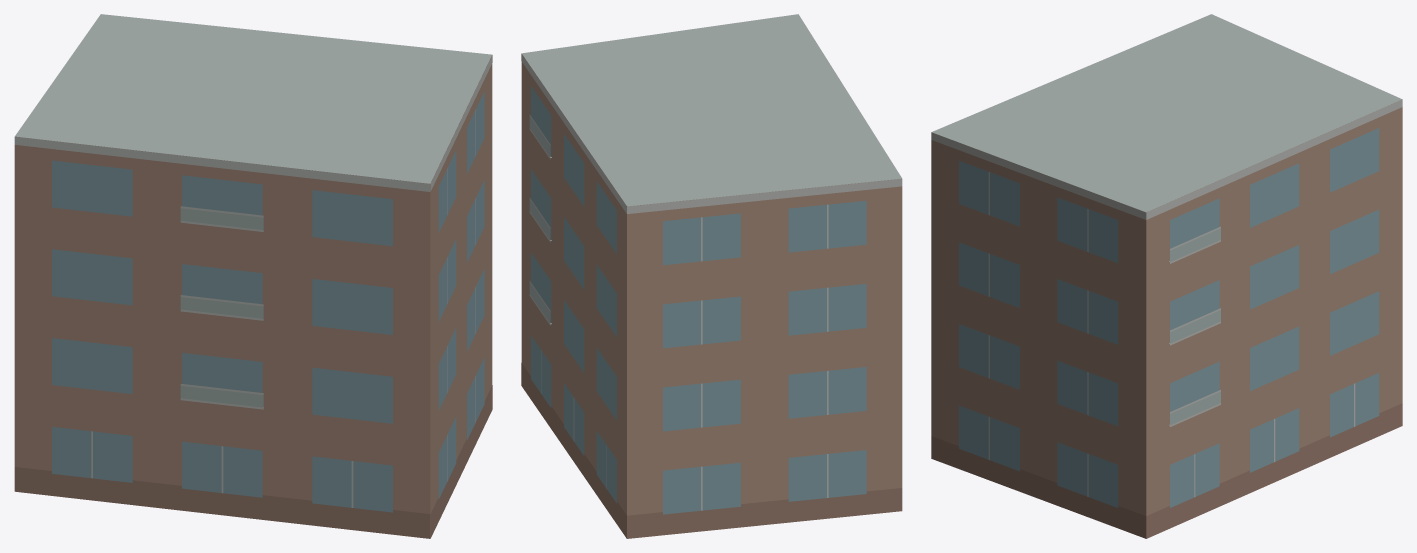
Rendered from survey-upis-33001440.glb.
3 views of the same model, side by side, from view 1: azimuth 30°, elevation 25°; view 2: azimuth 150°, elevation 25°; view 3: azimuth 270°, elevation 25° (orthographic). The views are drawn at different scales.
Visible parts, largest first — view 1: survey-upis-33001440.tmp; view 2: survey-upis-33001440.tmp; view 3: survey-upis-33001440.tmp.
Part boxes in pixels (x1,y1,x2,y2): survey-upis-33001440.tmp: (14, 14, 492, 538); survey-upis-33001440.tmp: (521, 14, 902, 538); survey-upis-33001440.tmp: (931, 14, 1402, 538).
Bounding box in the file's own units: 13.7 × 10.5 × 13.75.
